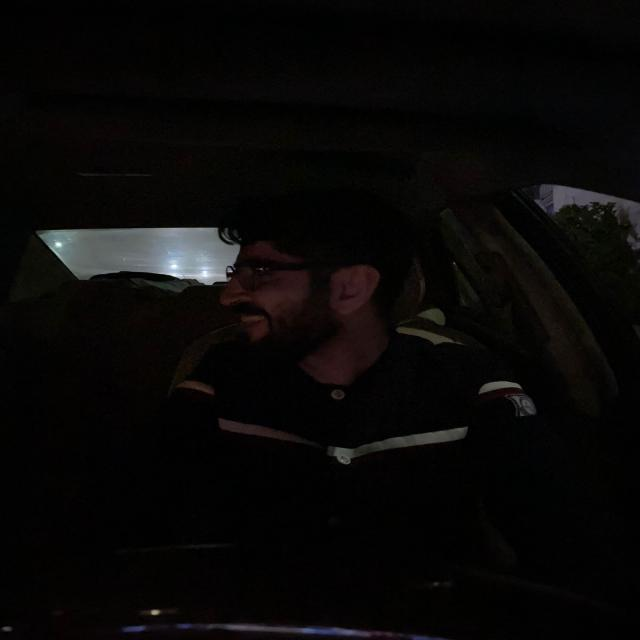LeftRight: (210, 222, 392, 354)
talking: (228, 309, 271, 332)
